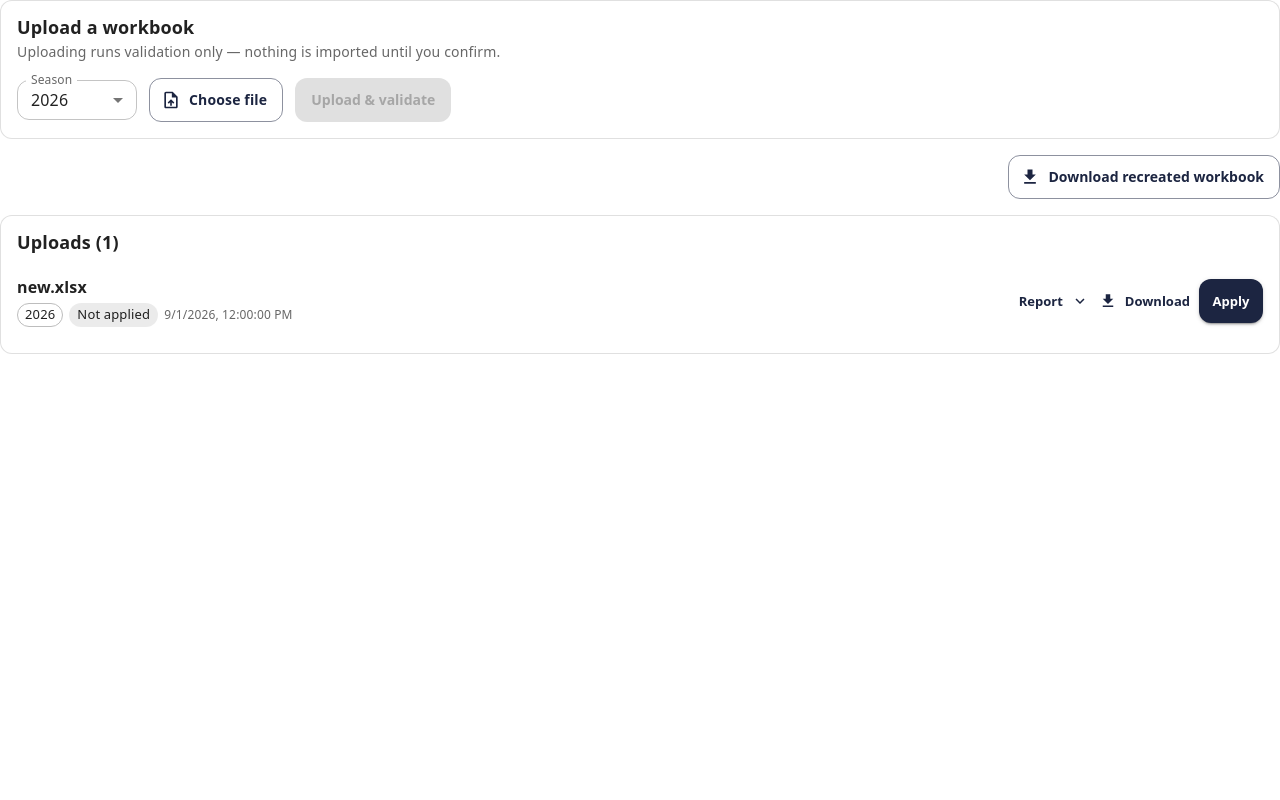
Test case: CommissionerWorkbooks › does not apply when the confirmation is cancelled
Click the button "Apply" at (1231, 301), box [1199,279,1263,323]
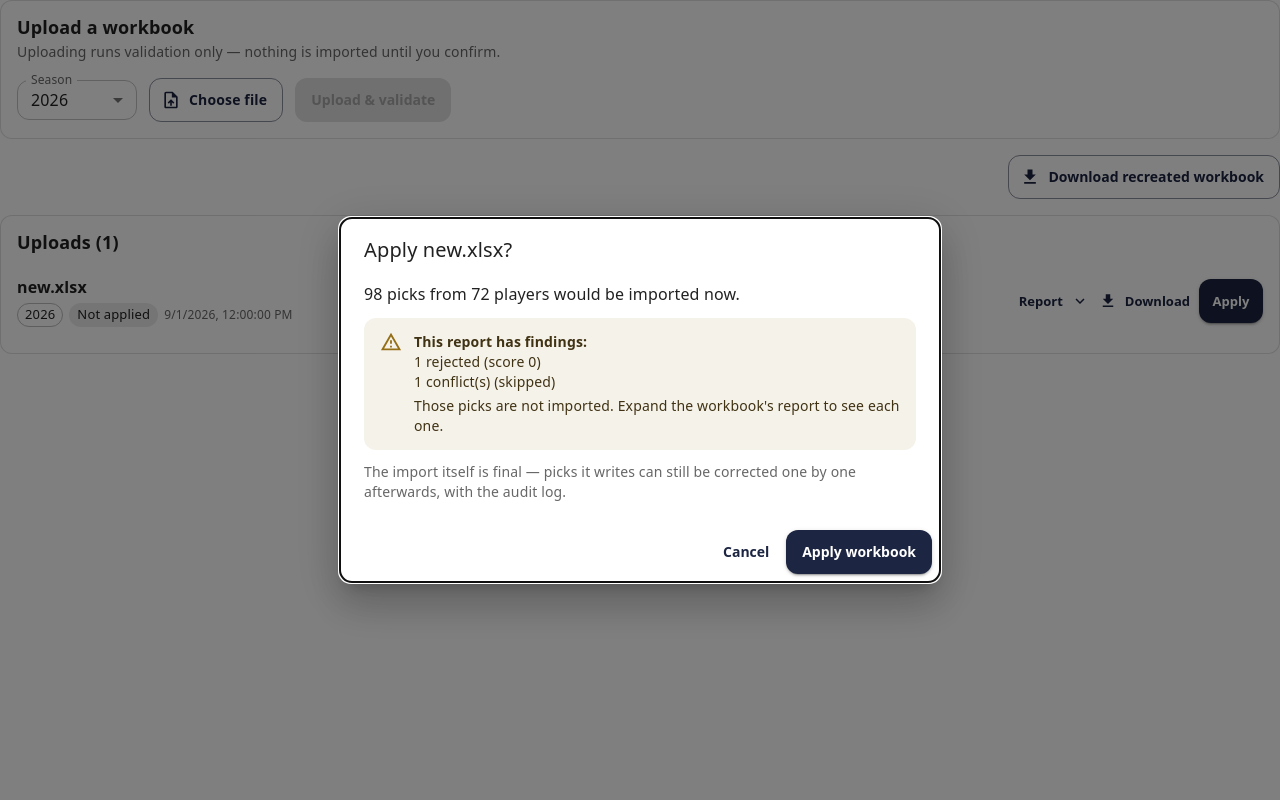
Click the button "Cancel" at (746, 552), box [714,530,778,574]
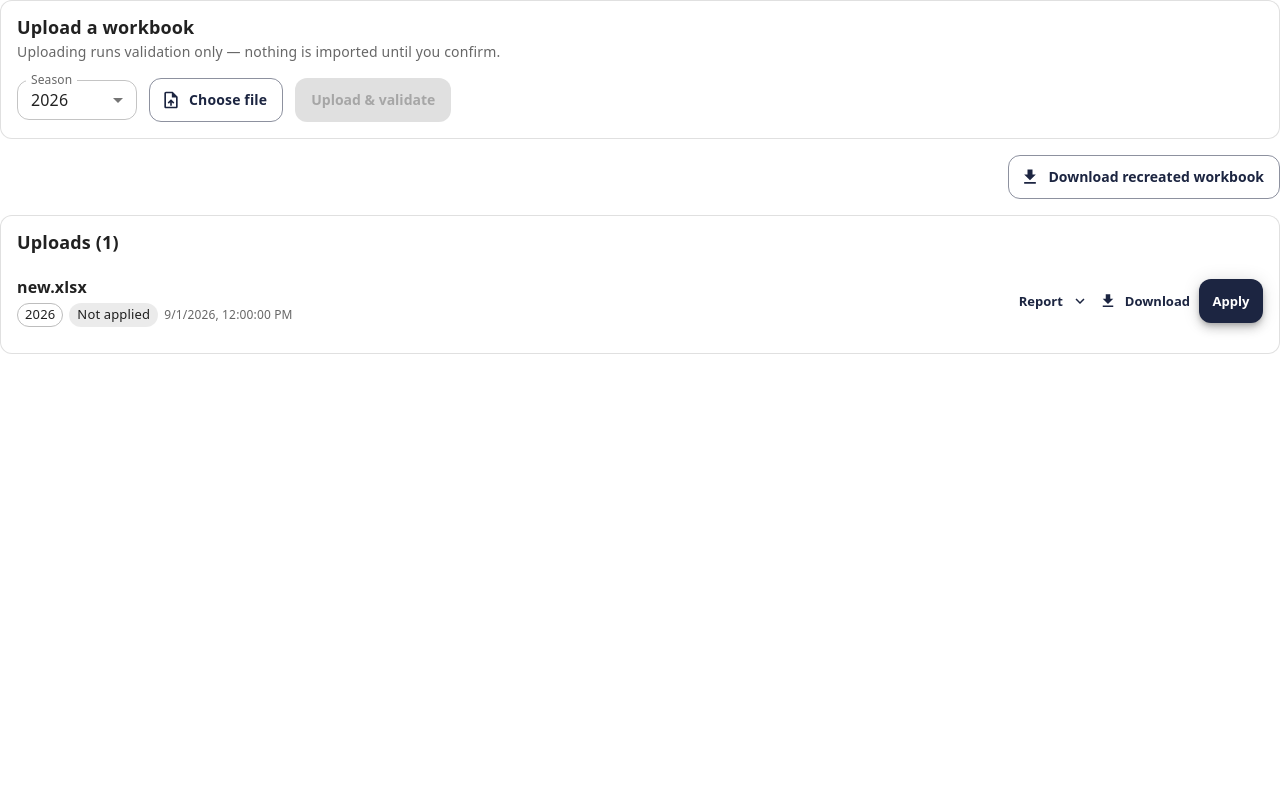
Check: the dialog is gone
